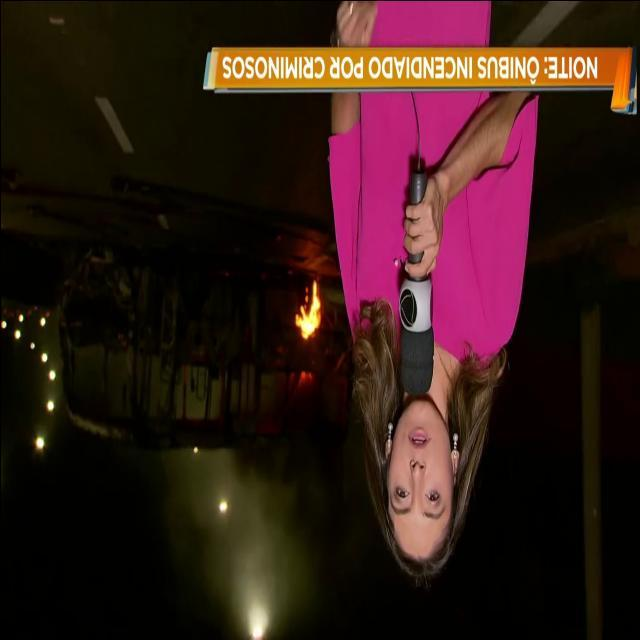Fire: (292, 279, 326, 347)
